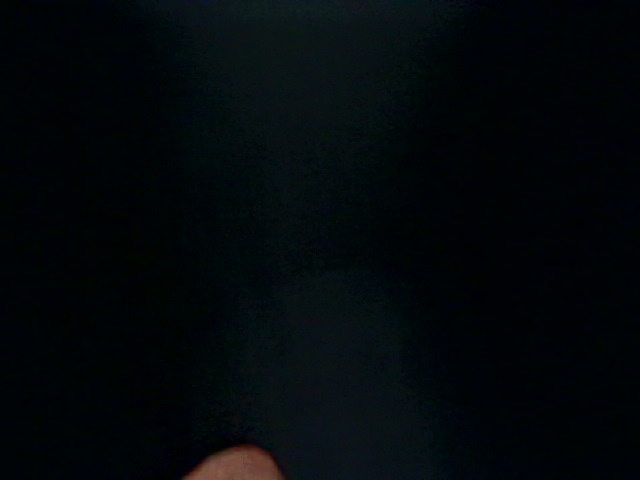KHSLJ: (31, 1, 380, 180)
